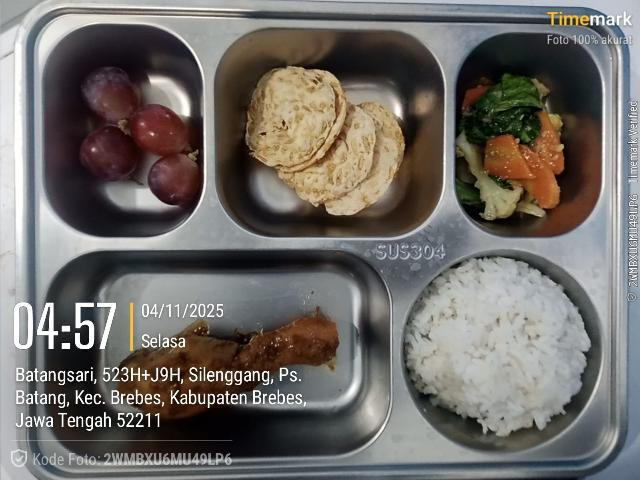ayam: (118, 315, 339, 418)
buah: (81, 67, 201, 205)
nasi: (404, 257, 590, 436)
sayur: (456, 73, 565, 221)
tempe: (245, 66, 404, 214)
